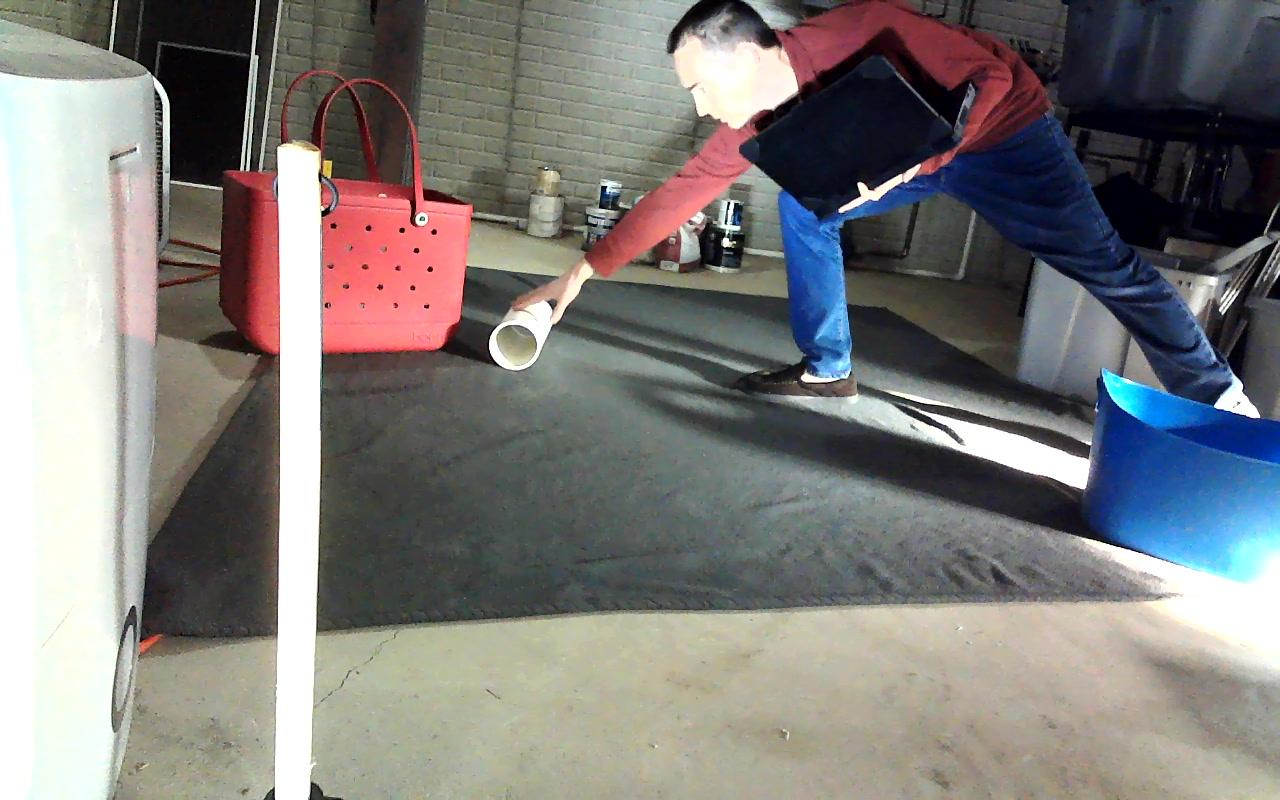coral: (488, 299, 555, 370)
